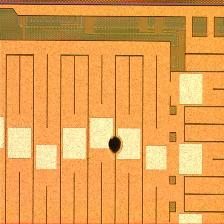PARTICLE: (103, 134, 126, 156)
